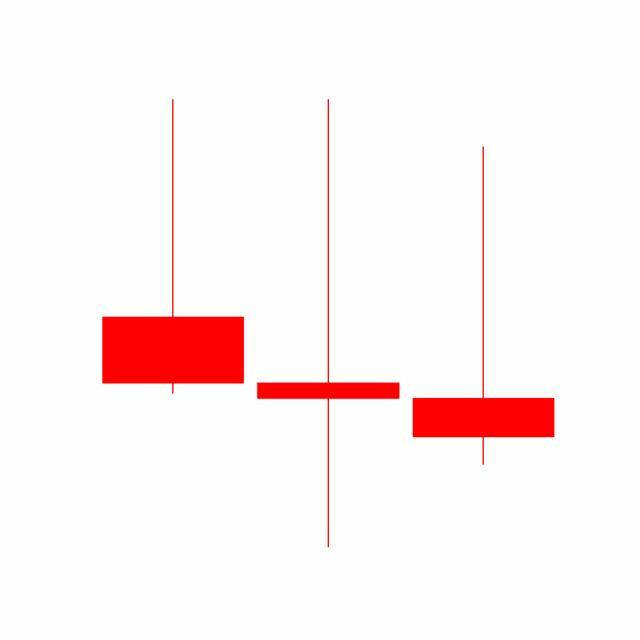Gravestone Doji: (406, 143, 562, 469)
